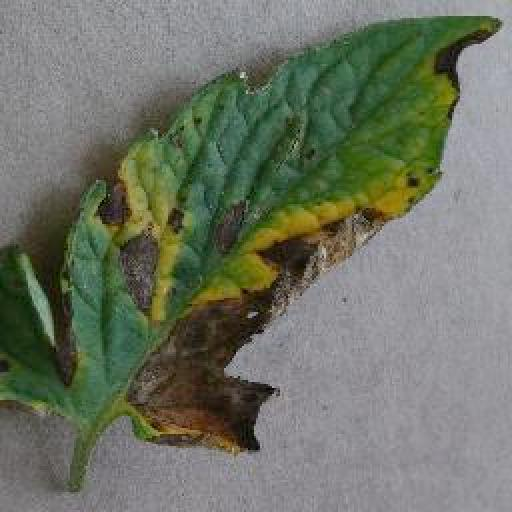disease_tomato: (0, 15, 500, 453)
